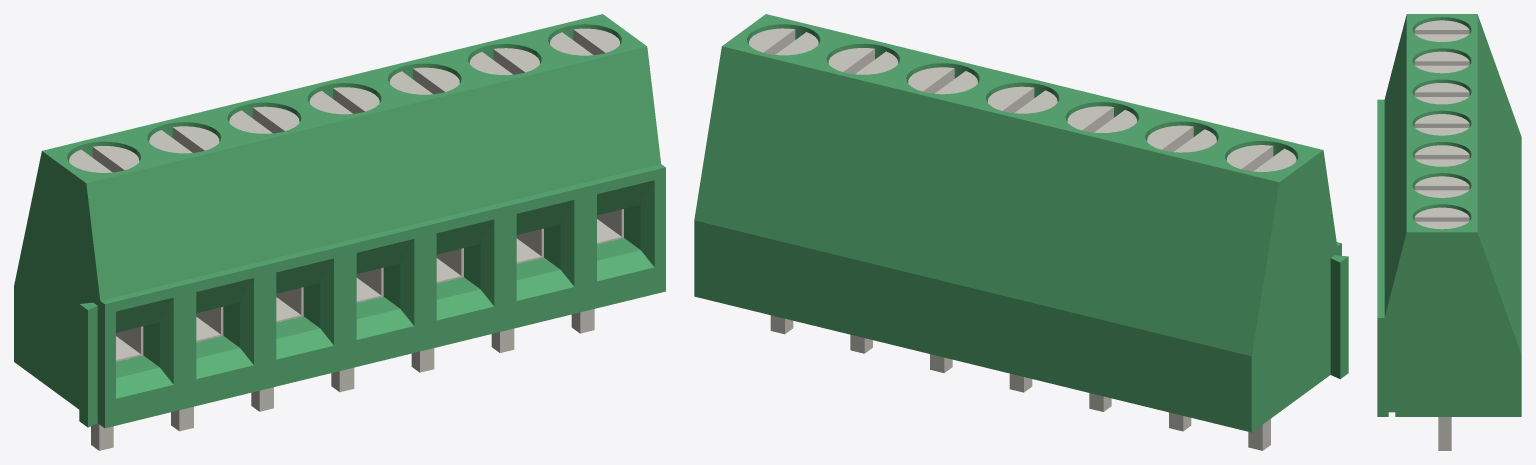
The model's file is kc-terminalblock_phoenix_mkds-1_5-7_1x07_p5.00mm_horizontal.glb.
3 renders of one model, left to right at view 1: azimuth 30°, elevation 25°; view 2: azimuth 150°, elevation 25°; view 3: azimuth 270°, elevation 25°, orthographic. The views are drawn at different scales.
Parts seen in each view (by area): view 1: 0.08333333333333333_0.4166666666666667_0.16666666666666666_0, 0.6666666666666666_0.6666666666666666_0.5833333333333334_0.8; view 2: 0.08333333333333333_0.4166666666666667_0.16666666666666666_0, 0.6666666666666666_0.6666666666666666_0.5833333333333334_0.8; view 3: 0.08333333333333333_0.4166666666666667_0.16666666666666666_0, 0.6666666666666666_0.6666666666666666_0.5833333333333334_0.8.
Part boxes in pixels (x1,y1,x2,y2): 0.08333333333333333_0.4166666666666667_0.16666666666666666_0: [14, 14, 665, 428]; 0.6666666666666666_0.6666666666666666_0.5833333333333334_0.8: [69, 28, 623, 450]; 0.08333333333333333_0.4166666666666667_0.16666666666666666_0: [694, 14, 1348, 432]; 0.6666666666666666_0.6666666666666666_0.5833333333333334_0.8: [749, 28, 1296, 450]; 0.08333333333333333_0.4166666666666667_0.16666666666666666_0: [1377, 14, 1521, 416]; 0.6666666666666666_0.6666666666666666_0.5833333333333334_0.8: [1414, 20, 1469, 450].
Size of the model in its own units: 3.57 by 1.73 by 0.98.
